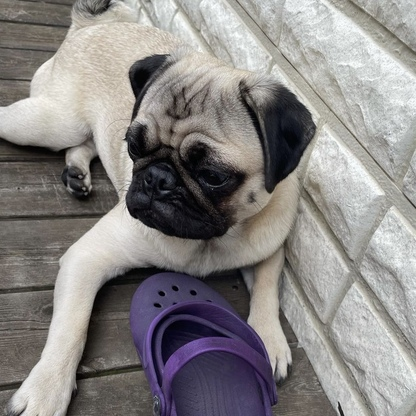Pug: (1, 1, 324, 416)
